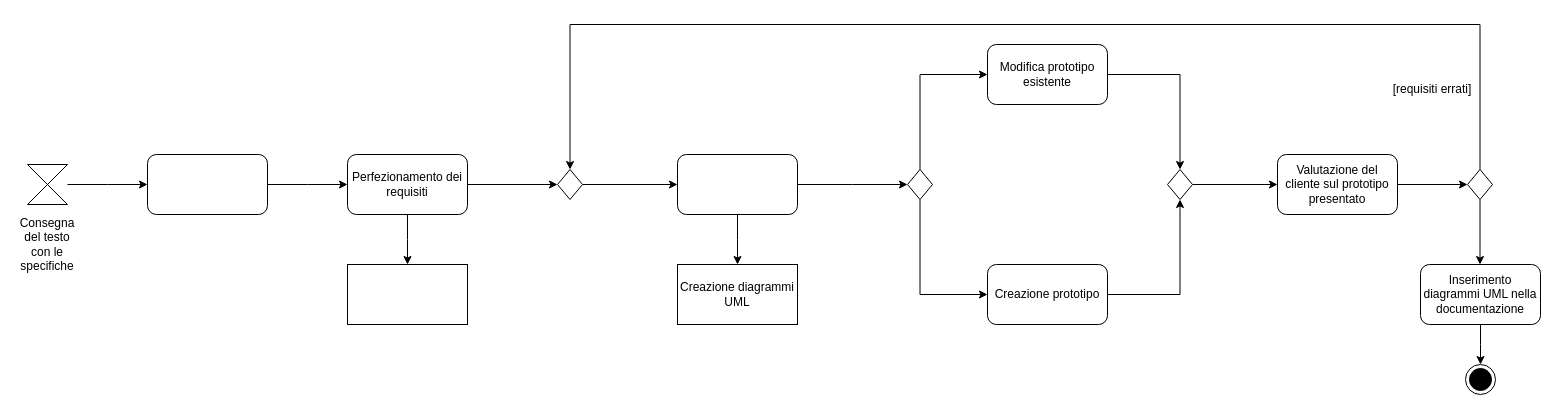
This 1558x412 diagram has some shape labels left out. The shapes that lost their labels are listed below. From the top down, each one's centre as x and y in pixels, then its label:
At point (207, 184): "Analisi dei requisiti".
At point (737, 184): "Specifica dei requisiti".
At point (407, 294): "Interviste chiuse con il cliente (via e-mail)".
